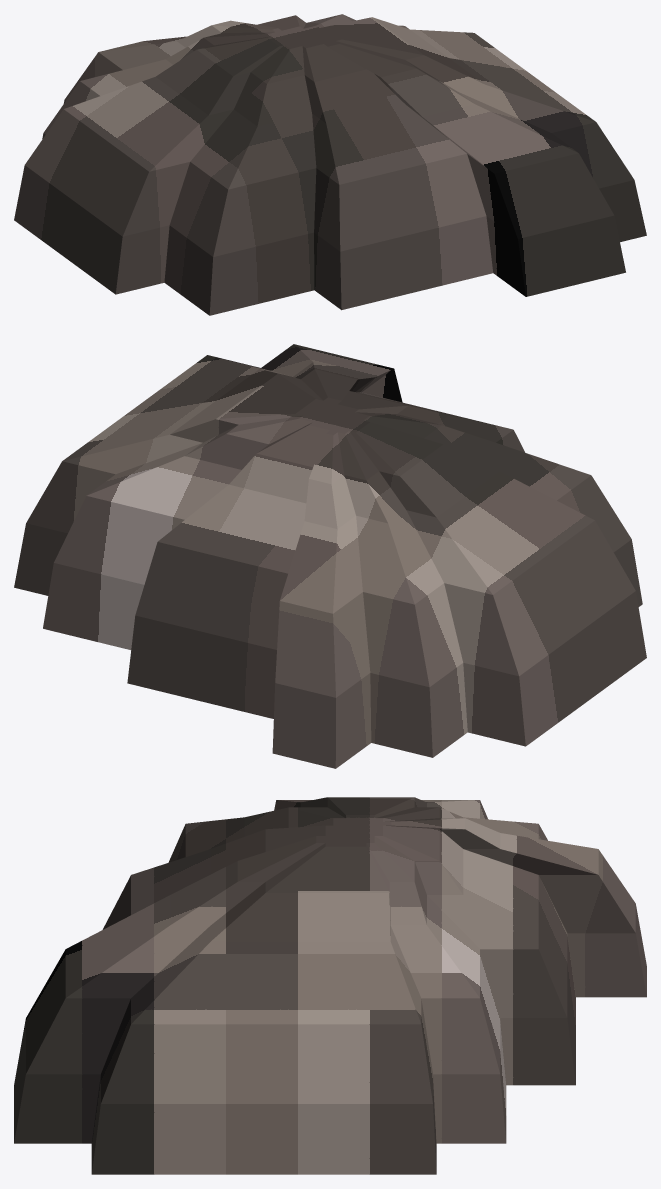
The model's file is debris_201x01.gltf.
The picture shows the model from 3 angles, top to bottom: view 1: azimuth 30°, elevation 25°; view 2: azimuth 150°, elevation 25°; view 3: azimuth 270°, elevation 25°; orthographic projection. The views are drawn at different scales.
Visible parts, largest first — view 1: debris_201x01; view 2: debris_201x01; view 3: debris_201x01.
Part boxes in pixels (x1=…): debris_201x01: x1=14, y1=14, x2=646, y2=315; debris_201x01: x1=14, y1=344, x2=646, y2=768; debris_201x01: x1=14, y1=797, x2=646, y2=1174.
Bounding box in the file's own units: 0.912 × 0.3318 × 0.9151.
Materials: 1 (1 with a texture image).
